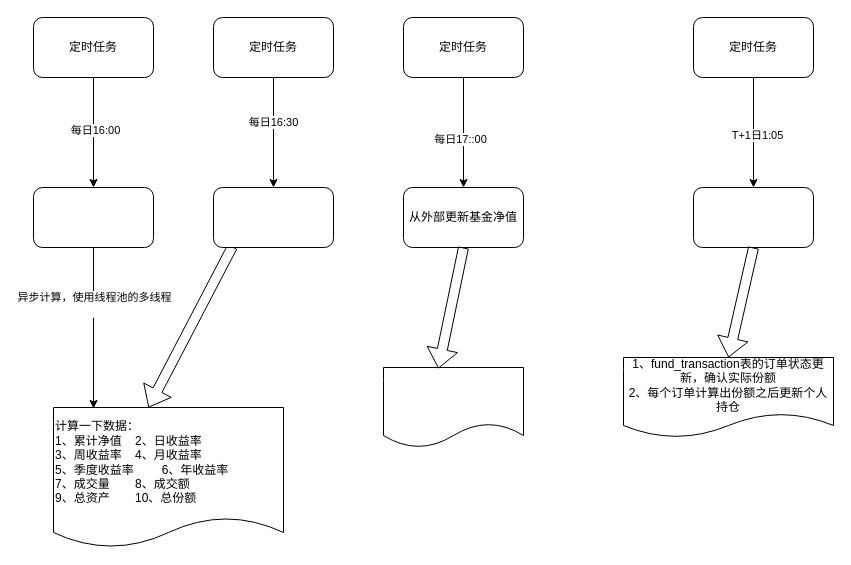
The diagram is 851 pixels wide and 565 high, and some of its shapes have lost their labels. The shapes that lost their labels are listed below. From the top down, each one's centre as x and y in pixels, then its label:
At point (93, 217): "保存基金净值历史数据".
At point (273, 217): "将计算任务加入到线程次".
At point (753, 217): "将所有待处理的订单确认，并更新个人持仓".
At point (453, 407): "计算日收益率，年化收益率，更新基金信息".
